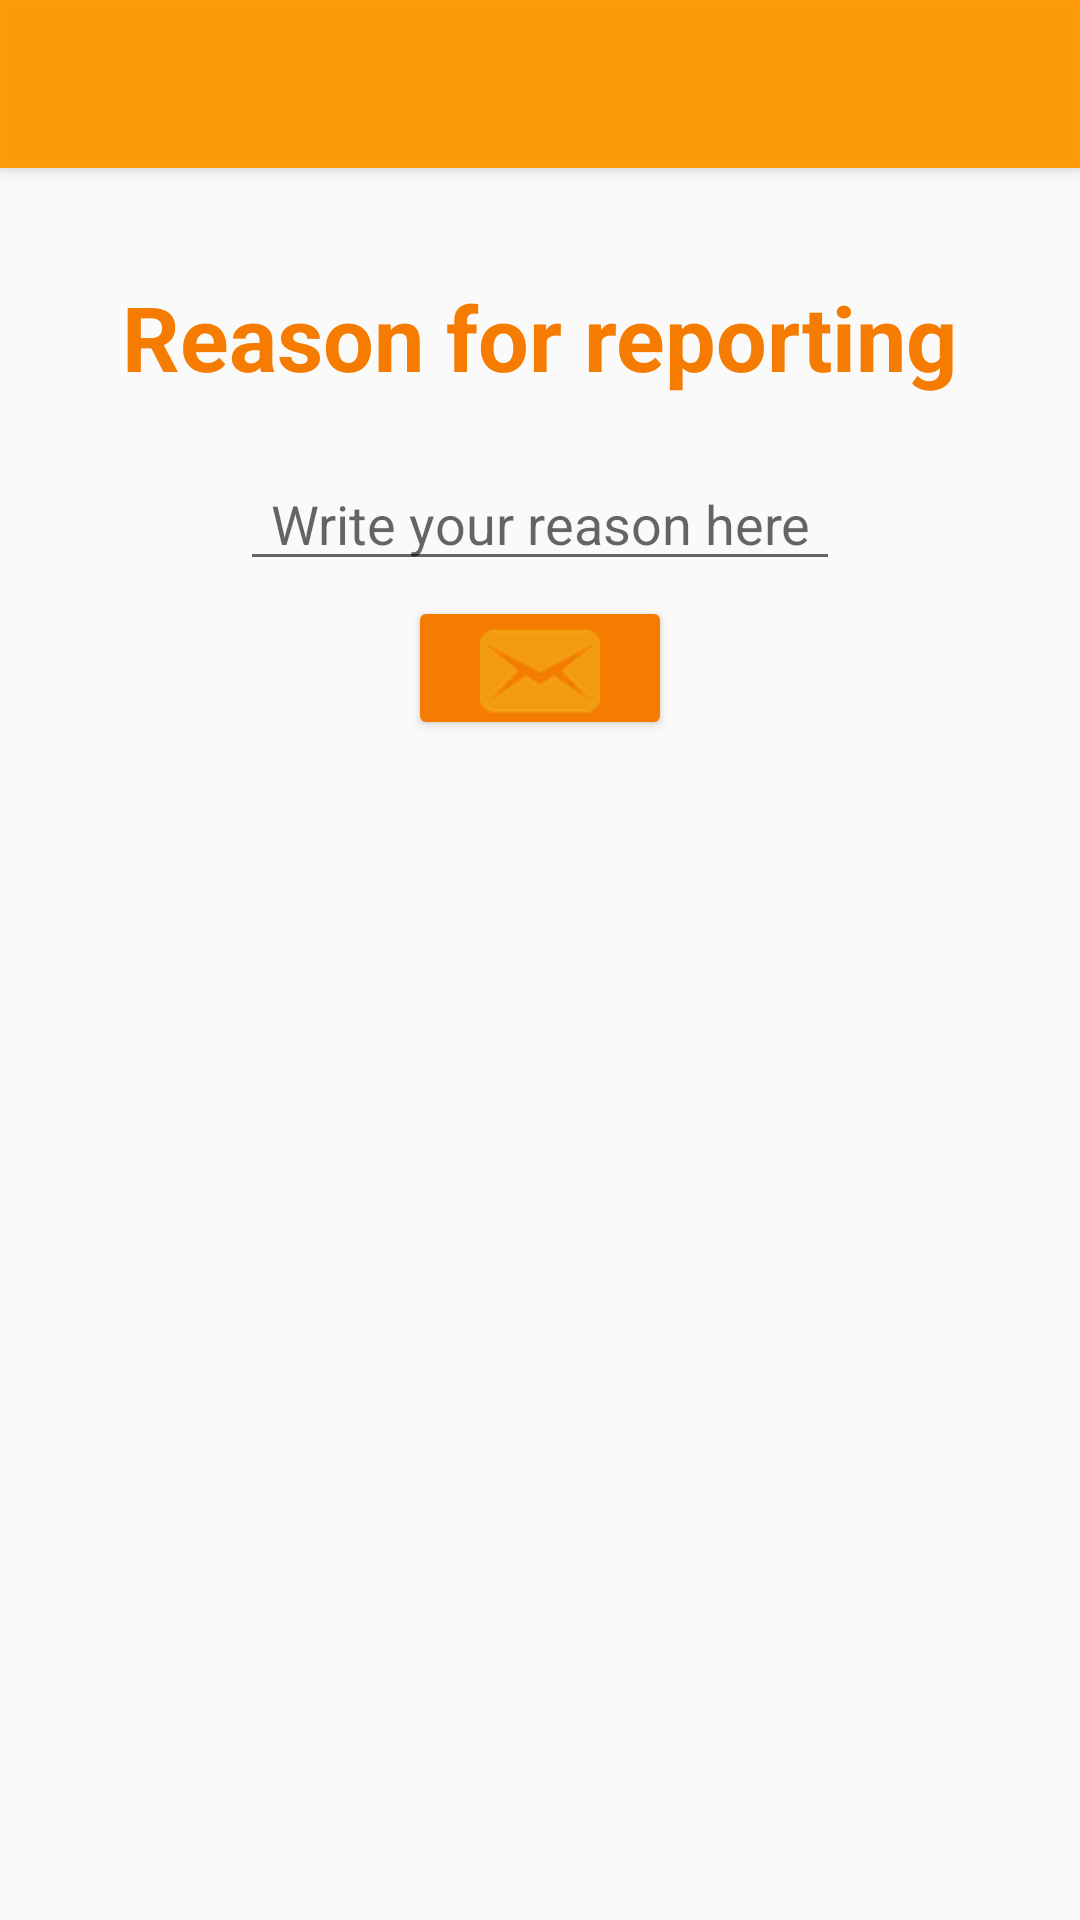

Screen size 1080w x 1920h. Icon name, then its center in pixels as (x,y):
enviar: (540,671)
